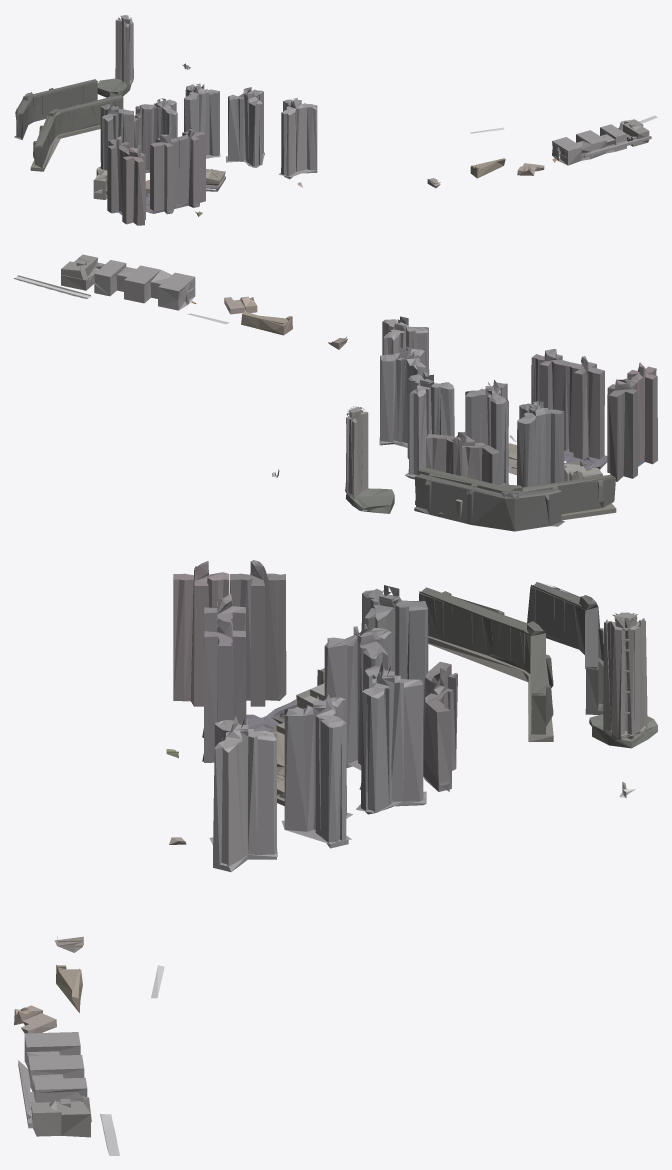
3 renders of one model, top to bottom at view 1: azimuth 30°, elevation 25°; view 2: azimuth 150°, elevation 25°; view 3: azimuth 270°, elevation 25°, orthographic. The views are drawn at different scales.
Visible parts, largest first — view 1: buildings; view 2: buildings, infrastructure; view 3: buildings, infrastructure.
Boxes of the visible parts, left/top/right/bottom form: buildings: left=14, top=15, right=651, bottom=225; buildings: left=61, top=254, right=657, bottom=531; infrastructure: left=14, top=275, right=516, bottom=476; buildings: left=14, top=560, right=657, bottom=1137; infrastructure: left=100, top=789, right=635, bottom=1155.
Size of the model in its own units: 856 by 151 by 470.
